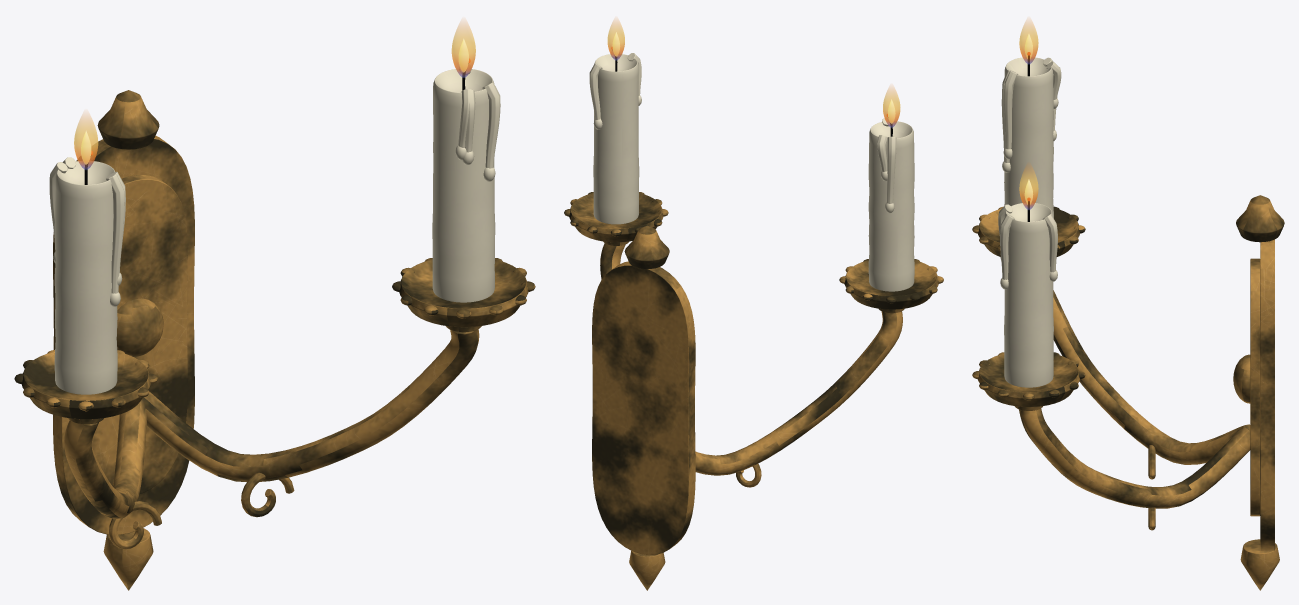
File: WallSconce_Double_Lit.gltf
3 renders of one model, left to right at view 1: azimuth 30°, elevation 25°; view 2: azimuth 150°, elevation 25°; view 3: azimuth 270°, elevation 25°, orthographic. The views are drawn at different scales.
Visible parts, largest first — view 1: WallSconce_Double_Lit_Body, WallSconce_Double_Lit_Flame; view 2: WallSconce_Double_Lit_Body, WallSconce_Double_Lit_Flame; view 3: WallSconce_Double_Lit_Body, WallSconce_Double_Lit_Flame.
Boxes of the visible parts, box(x1,y1,x2,y2) form: WallSconce_Double_Lit_Body: box(14, 58, 535, 590); WallSconce_Double_Lit_Flame: box(74, 20, 475, 169); WallSconce_Double_Lit_Body: box(564, 47, 943, 590); WallSconce_Double_Lit_Flame: box(607, 19, 900, 127); WallSconce_Double_Lit_Body: box(972, 52, 1284, 590); WallSconce_Double_Lit_Flame: box(1019, 19, 1038, 209).
Size of the model in its own units: 0.3721 by 0.4521 by 0.2539.
6 materials, 3 textured.
